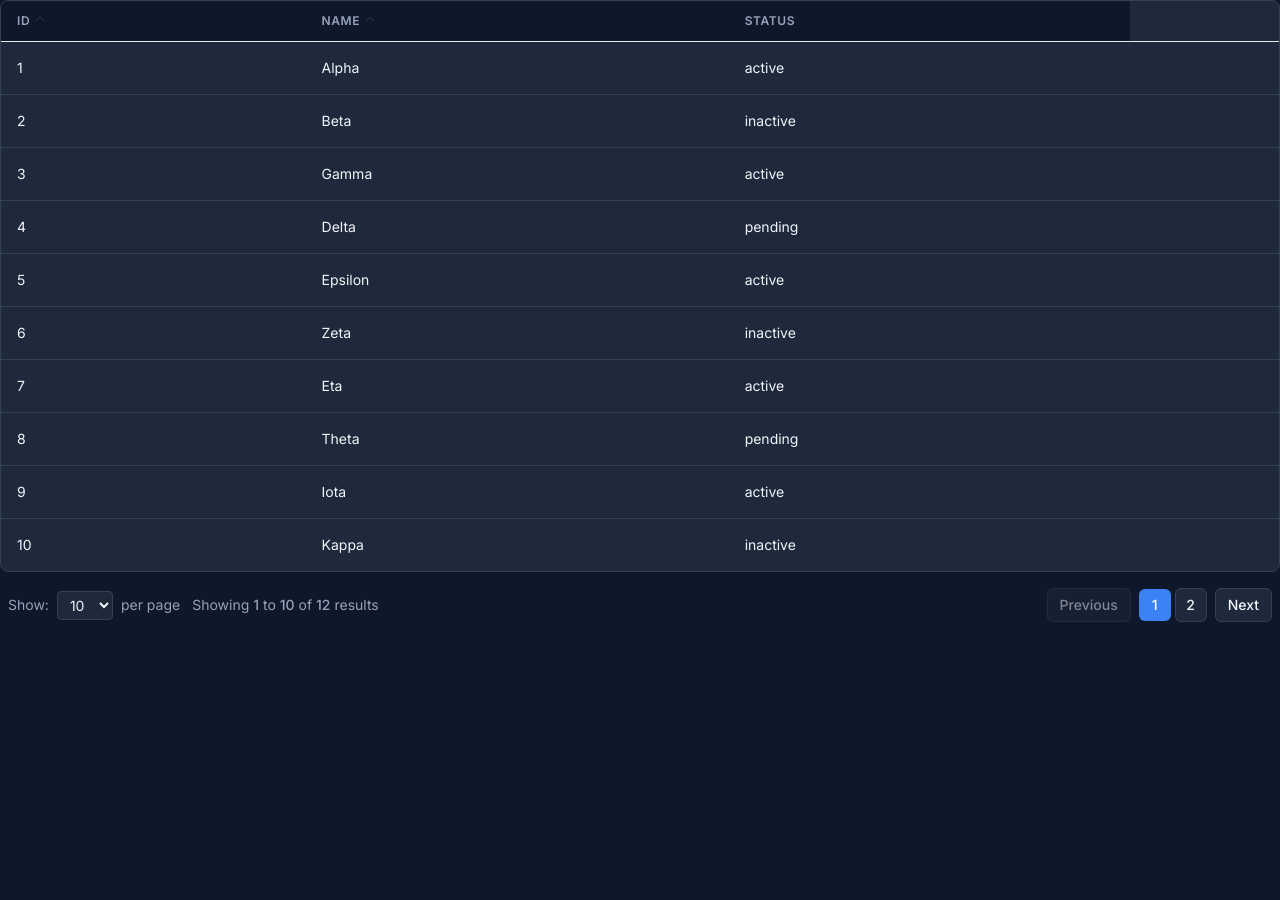
Test case: DataTable › pagination › navigates to next page
Click the button "Next". click: (1243,605)
box: x1=1215 y1=588 x2=1272 y2=622
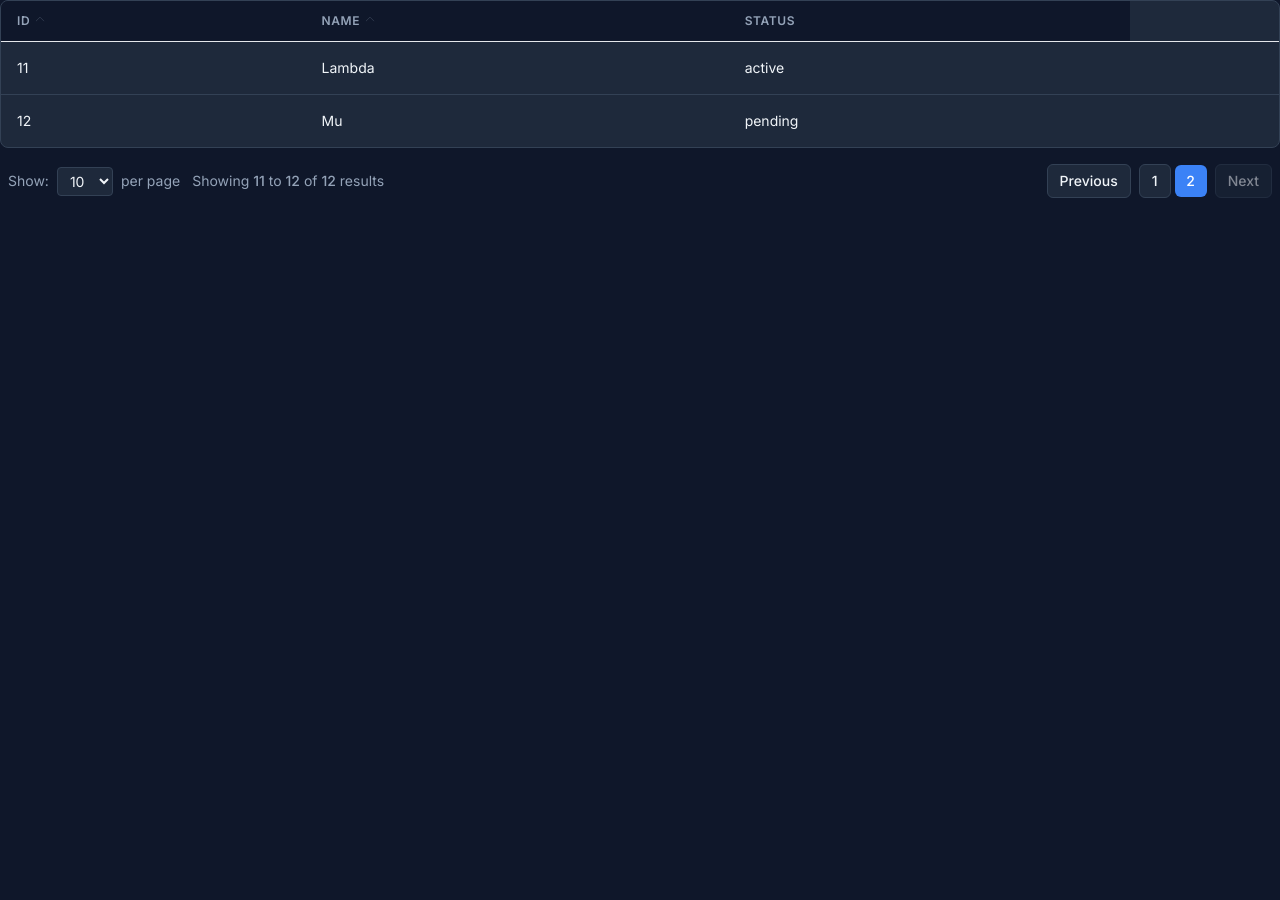
Check: the text "Lambda" is shown, box x1=306 y1=42 x2=729 y2=94
